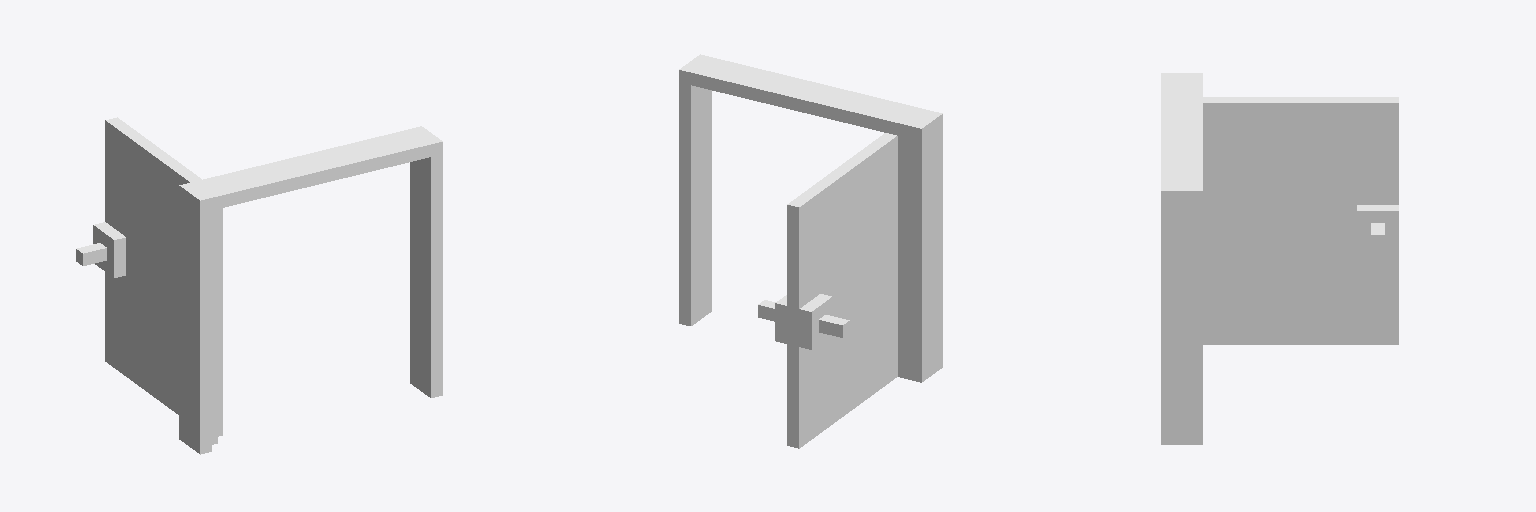
Rendered from door_open.obj.
3 renders of one model, left to right at view 1: azimuth 30°, elevation 25°; view 2: azimuth 150°, elevation 25°; view 3: azimuth 270°, elevation 25°, orthographic.
Parts seen in each view (by area): view 1: object 1; view 2: object 1; view 3: object 1.
Boxes of the visible parts, x1=… form: object 1: x1=76, y1=117, x2=442, y2=454; object 1: x1=679, y1=54, x2=942, y2=448; object 1: x1=1161, y1=73, x2=1398, y2=444.
Bounding box in the file's own units: 2.1 × 2 × 1.7.